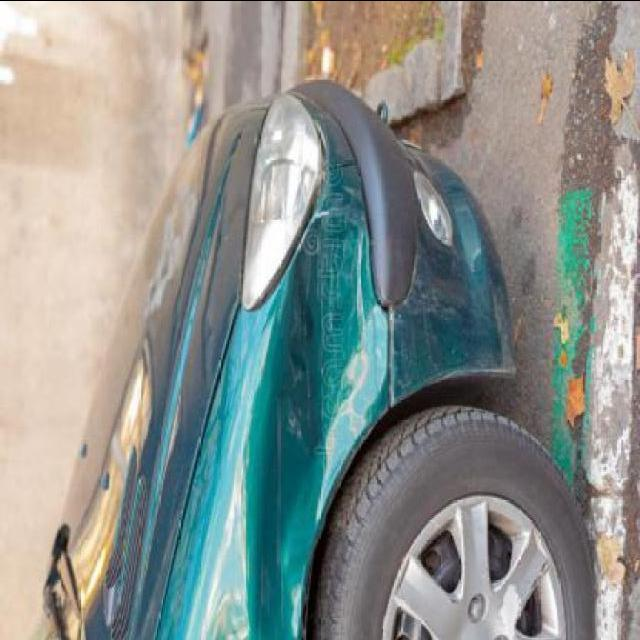fender-dent: (216, 290, 465, 640)
